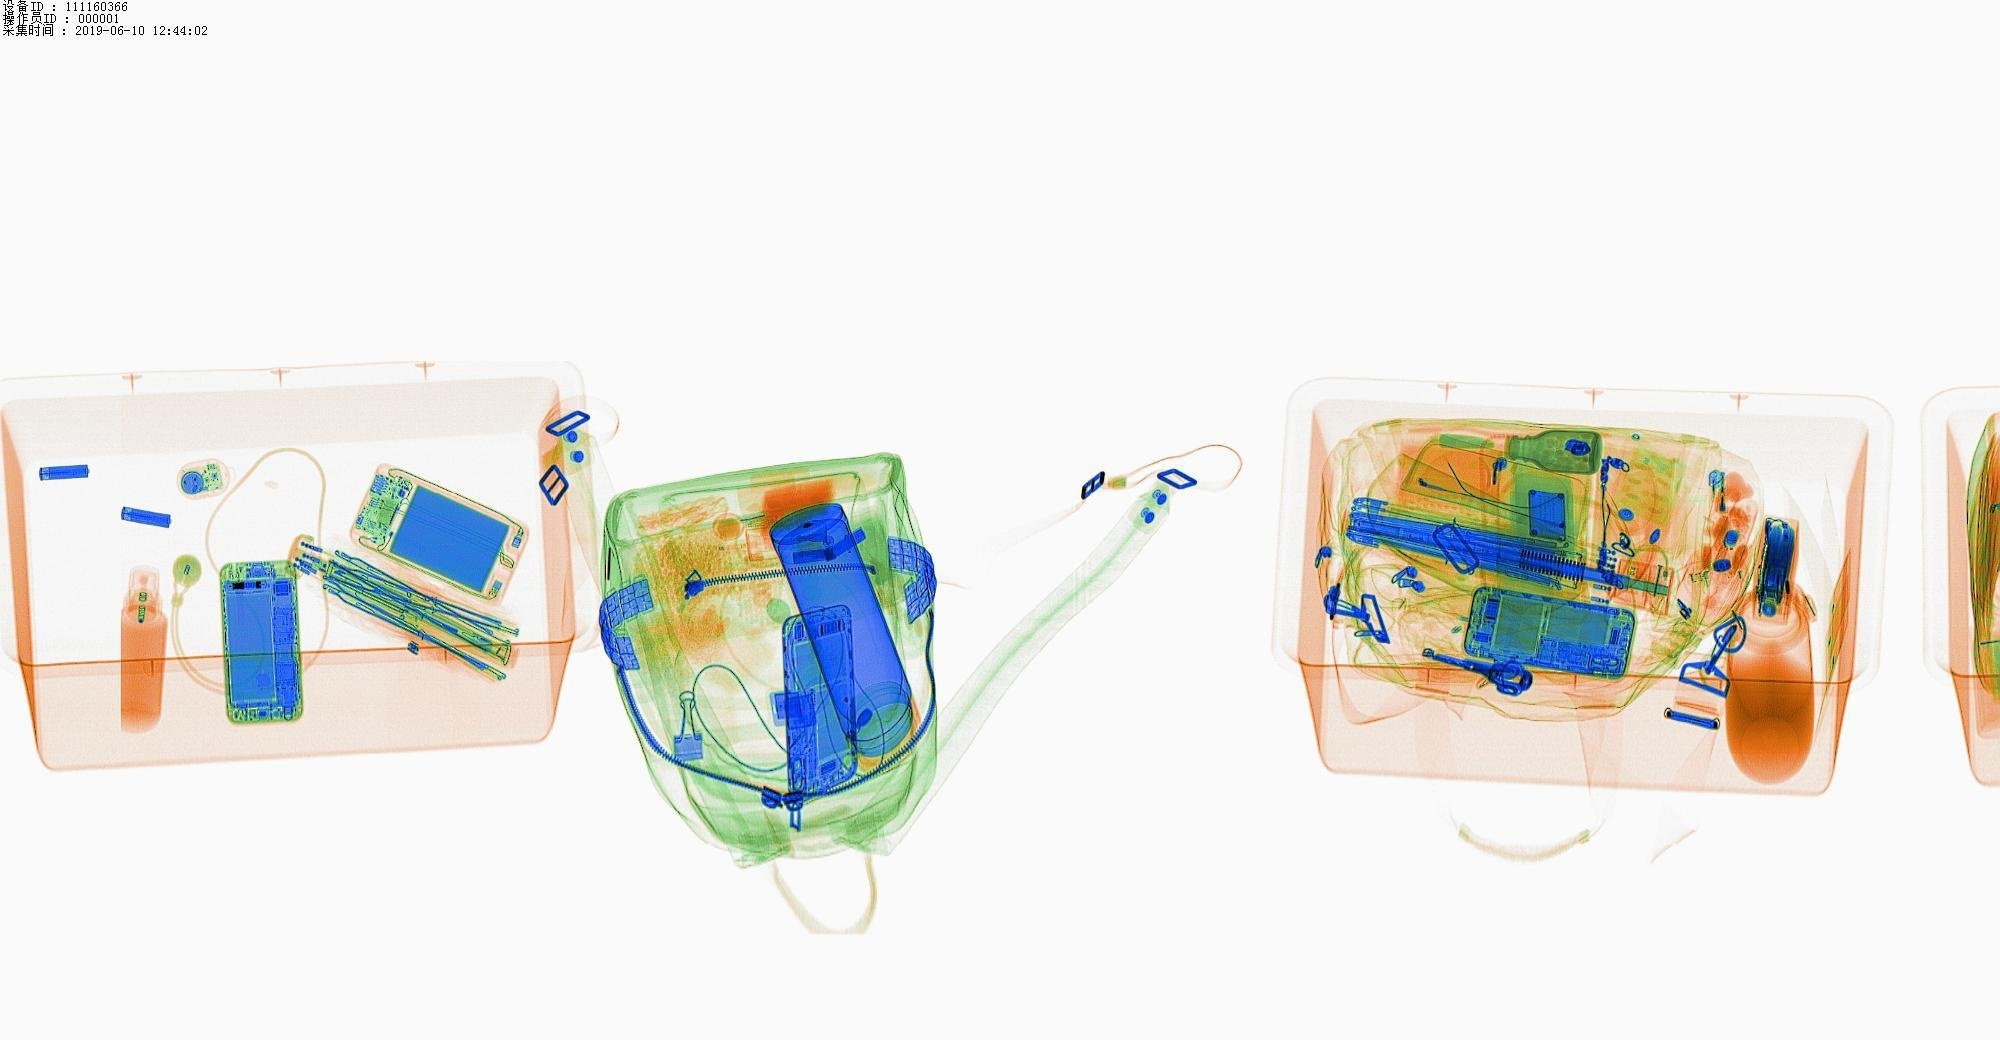NonmetallicFire: (1689, 450, 1741, 562)
